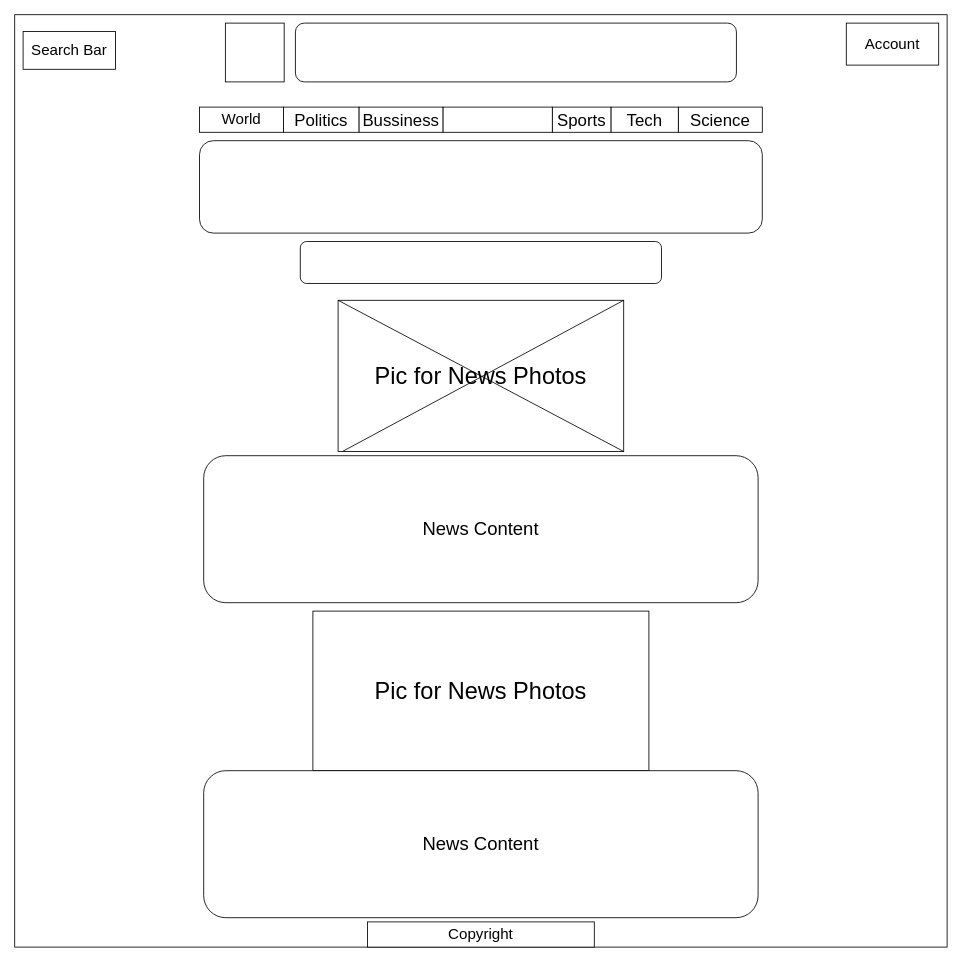
Image size: 962x962. Some labels were removed from this diagram. Each missing label, with the box of its shape:
Entertainment: (442, 106, 552, 132)
Logo: (225, 22, 284, 82)
News Brief: (299, 241, 662, 284)
News Title: (199, 140, 762, 233)
Website's Name: (295, 22, 736, 82)
